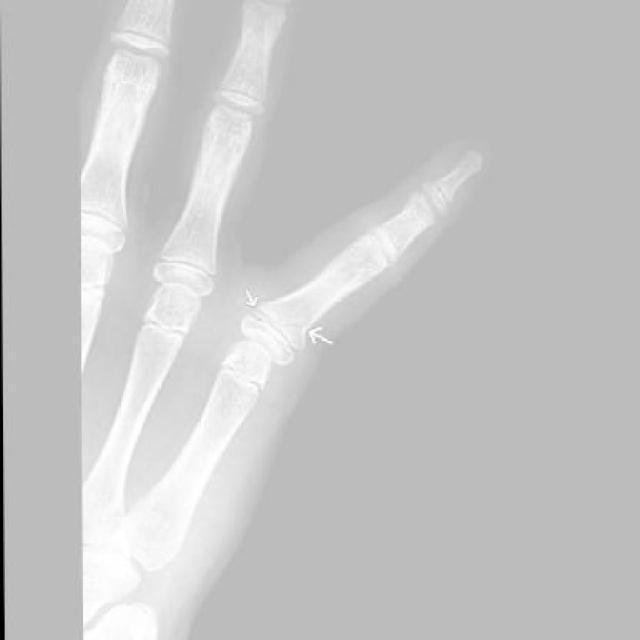Fracture: (243, 288, 319, 357)
